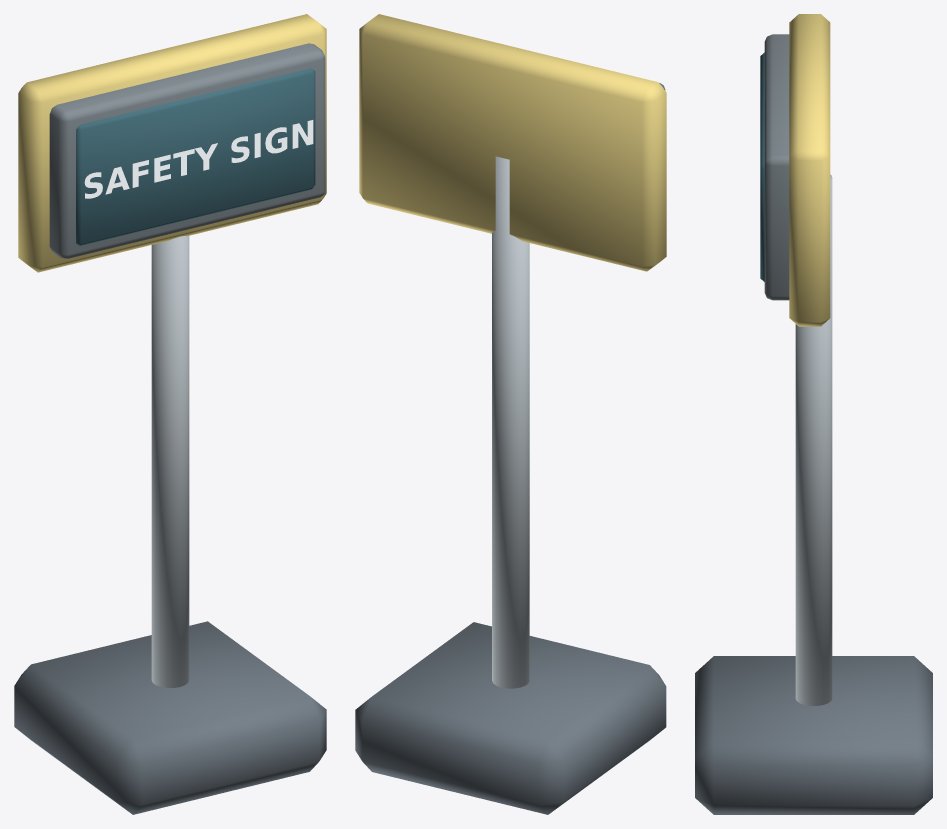
The model's file is safety_sign_enhanced.glb.
The picture shows the model from 3 angles, left to right: view 1: azimuth 30°, elevation 25°; view 2: azimuth 150°, elevation 25°; view 3: azimuth 270°, elevation 25°; orthographic projection.
Parts seen in each view (by area): view 1: Base_dark_legacy_0, SignPlate_glass, Pole_steel_legacy_1, Sign_yellow_legacy_2, ScreenMount_frame, TypeLabel_white; view 2: Sign_yellow_legacy_2, Base_dark_legacy_0, Pole_steel_legacy_1; view 3: Base_dark_legacy_0, Pole_steel_legacy_1, Sign_yellow_legacy_2, ScreenMount_frame, SignPlate_glass.
Part boxes in pixels (x1,y1,x2,y2): Base_dark_legacy_0: (14, 621, 326, 814); SignPlate_glass: (76, 68, 315, 245); Pole_steel_legacy_1: (151, 236, 189, 687); Sign_yellow_legacy_2: (18, 14, 326, 272); ScreenMount_frame: (49, 43, 325, 258); TypeLabel_white: (84, 120, 313, 198); Sign_yellow_legacy_2: (359, 14, 666, 271); Base_dark_legacy_0: (355, 622, 666, 814); Pole_steel_legacy_1: (492, 156, 529, 688); Base_dark_legacy_0: (695, 656, 932, 814); Pole_steel_legacy_1: (795, 174, 832, 705); Sign_yellow_legacy_2: (789, 14, 830, 326); ScreenMount_frame: (764, 34, 789, 300); SignPlate_glass: (760, 52, 764, 281).
Size of the model in its own units: 0.82 by 1.86 by 0.58.
